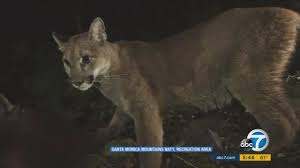Mountain Lion: (45, 14, 275, 130)
